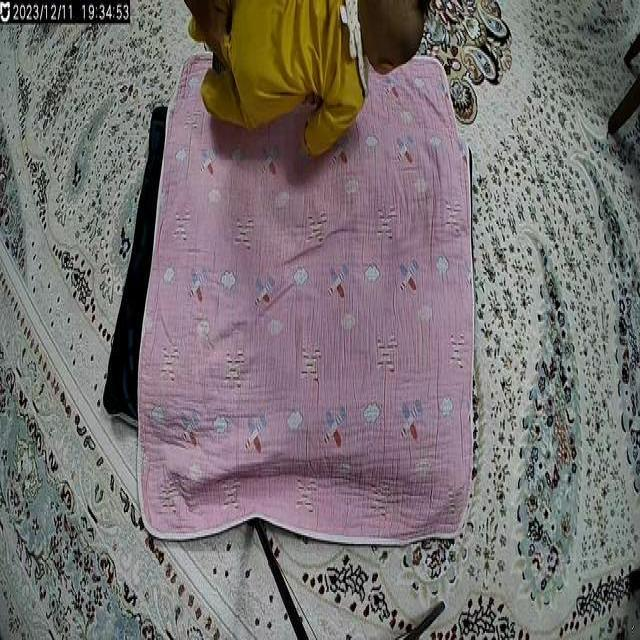baby: (180, 0, 431, 159)
